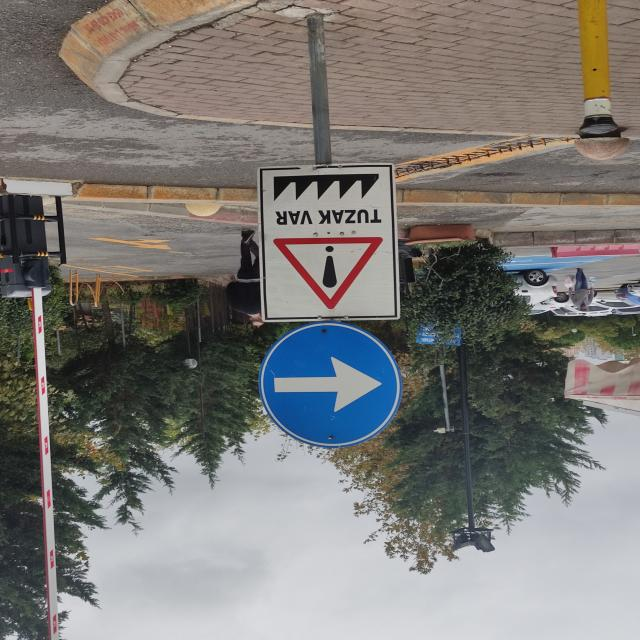Turn Right: (265, 319, 400, 447)
